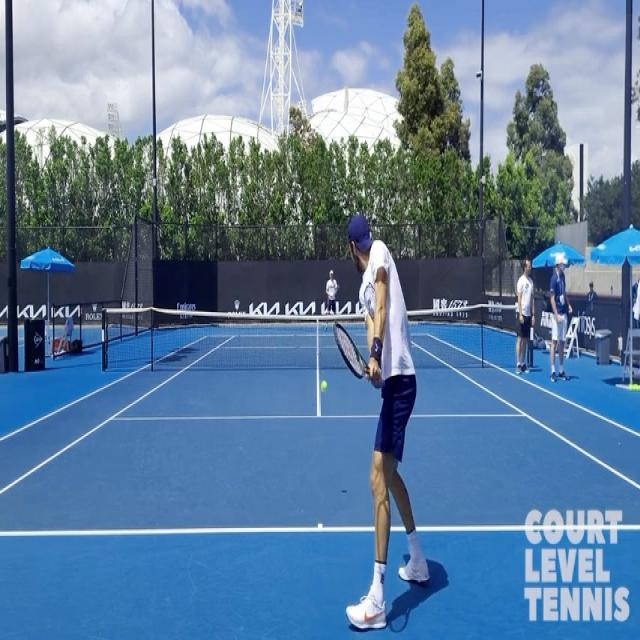backhand-ready: (330, 198, 421, 640)
